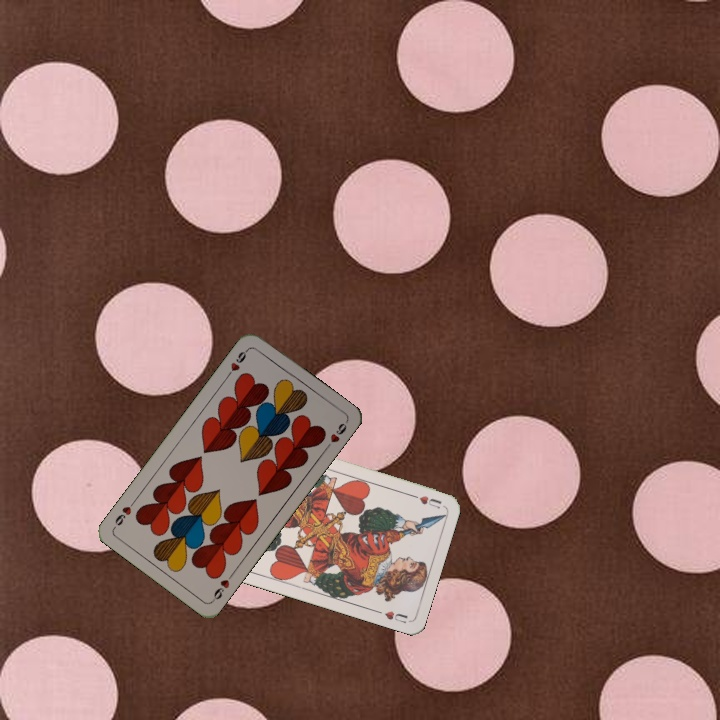H9: (222, 345, 251, 380), (208, 569, 236, 604)
HU: (406, 490, 444, 511)
